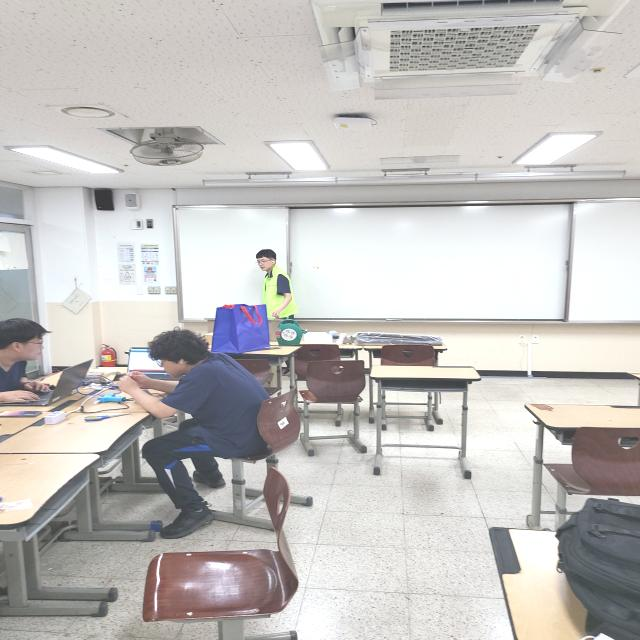weston_spy: (255, 259, 302, 327)
